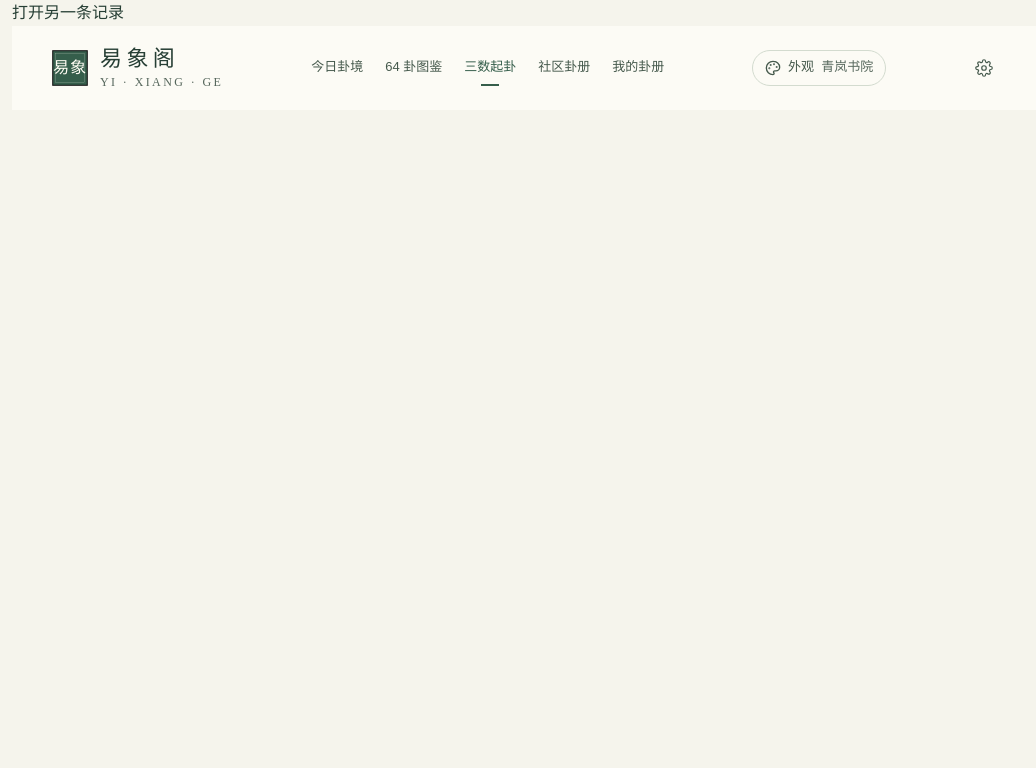
Scenario: Result page › opens another result with its own question and interpretation state
Click the link "打开另一条记录": [68, 12] box [12,4,124,21]
(page scrolled)
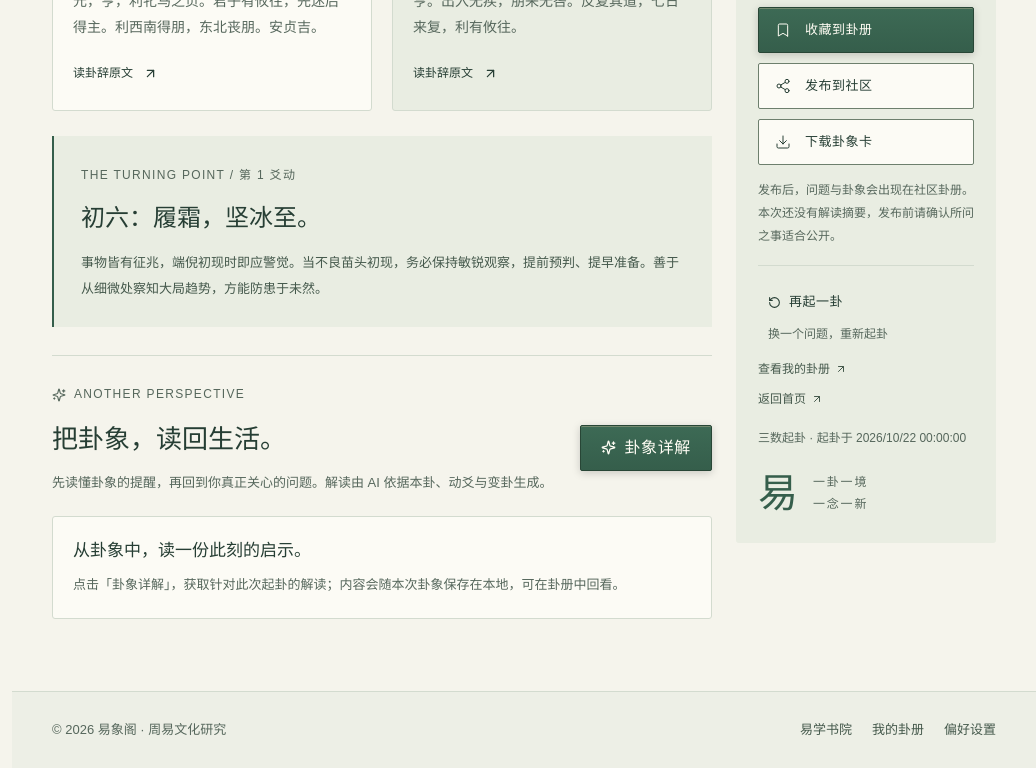
Check: the button "卦象详解" is shown, box [580,425,712,471]
